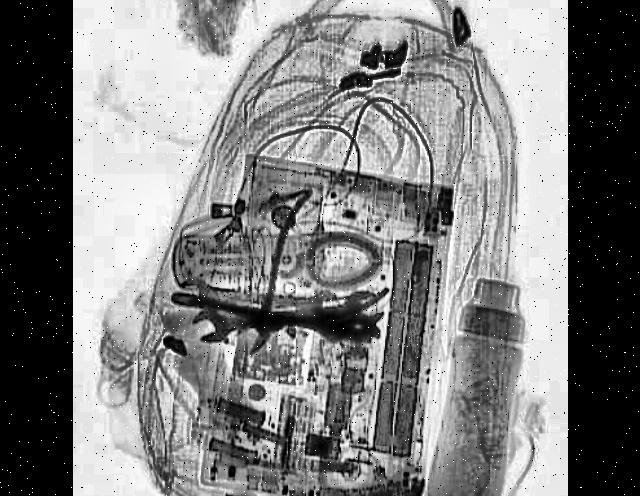Pliers: (206, 168, 388, 404)
Wrench: (189, 291, 335, 349)
